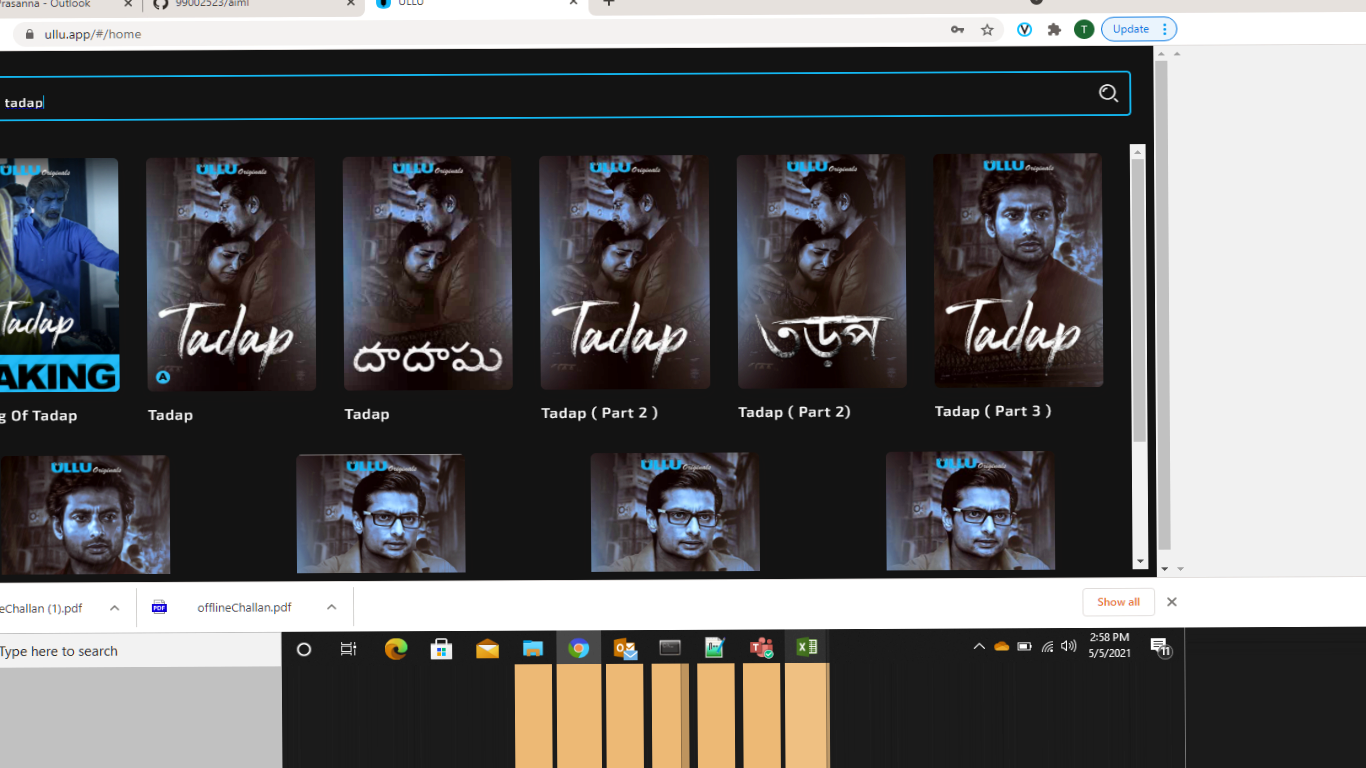searchicon: (1082, 71, 1123, 113)
searchtextbox: (1, 72, 1138, 123)
